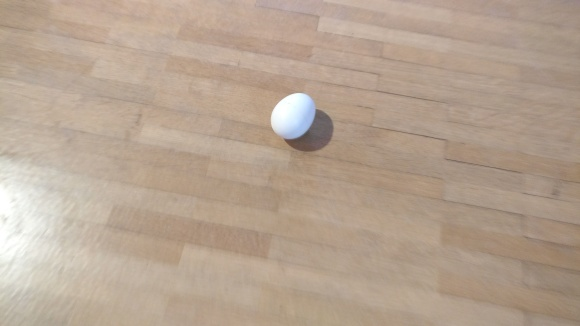egg: (270, 92, 316, 142)
